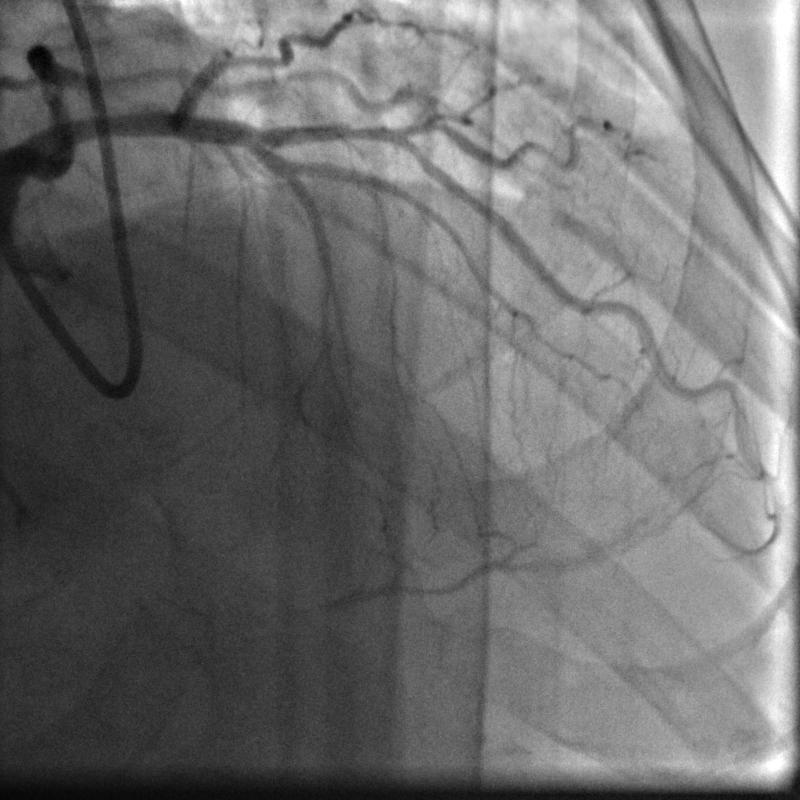Stenosis: (326, 121, 422, 148)
